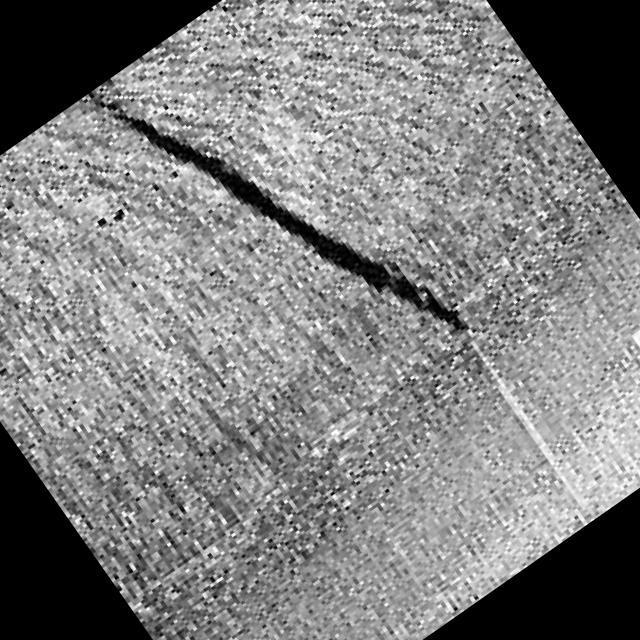defect: (79, 83, 474, 339)
